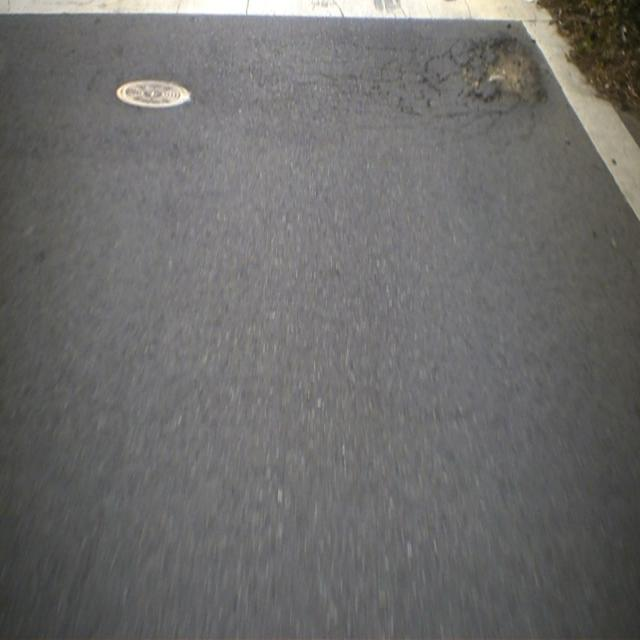Pothole: (414, 27, 556, 142)
